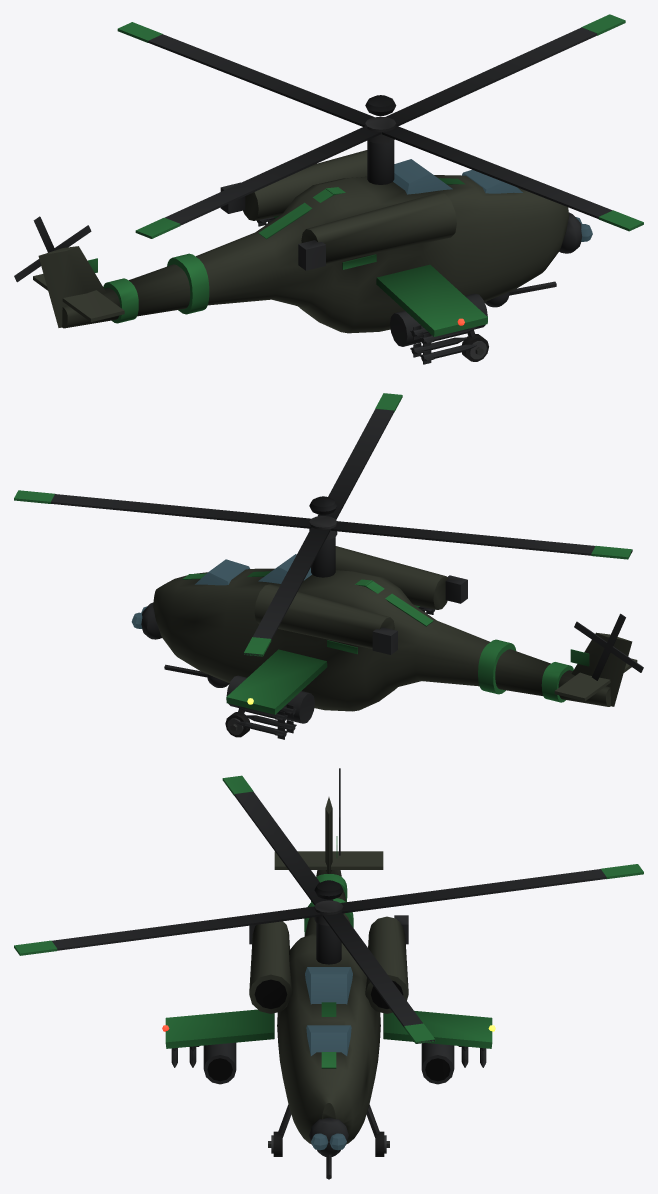
Rendered from u_gunship.glb.
The picture shows the model from 3 angles, top to bottom: view 1: azimuth 30°, elevation 25°; view 2: azimuth 150°, elevation 25°; view 3: azimuth 270°, elevation 25°; orthographic projection. The views are drawn at different scales.
Parts seen in each view (by area): view 1: Gunship_Walls, Gunship_rotor, Gunship_Details; view 2: Gunship_Walls, Gunship_rotor, Gunship_Details; view 3: Gunship_Walls, Gunship_rotor, Gunship_Details.
Part boxes in pixels (bbox=[...]): Gunship_Walls: bbox=[33, 150, 568, 336]; Gunship_rotor: bbox=[117, 14, 643, 238]; Gunship_Details: bbox=[14, 140, 592, 364]; Gunship_Walls: bbox=[153, 546, 637, 714]; Gunship_rotor: bbox=[14, 393, 632, 656]; Gunship_Details: bbox=[131, 537, 643, 739]; Gunship_Walls: bbox=[165, 797, 492, 1143]; Gunship_rotor: bbox=[14, 775, 643, 1043]; Gunship_Details: bbox=[162, 768, 495, 1179].
Size of the model in its own units: 1.94 by 0.739 by 1.74.
